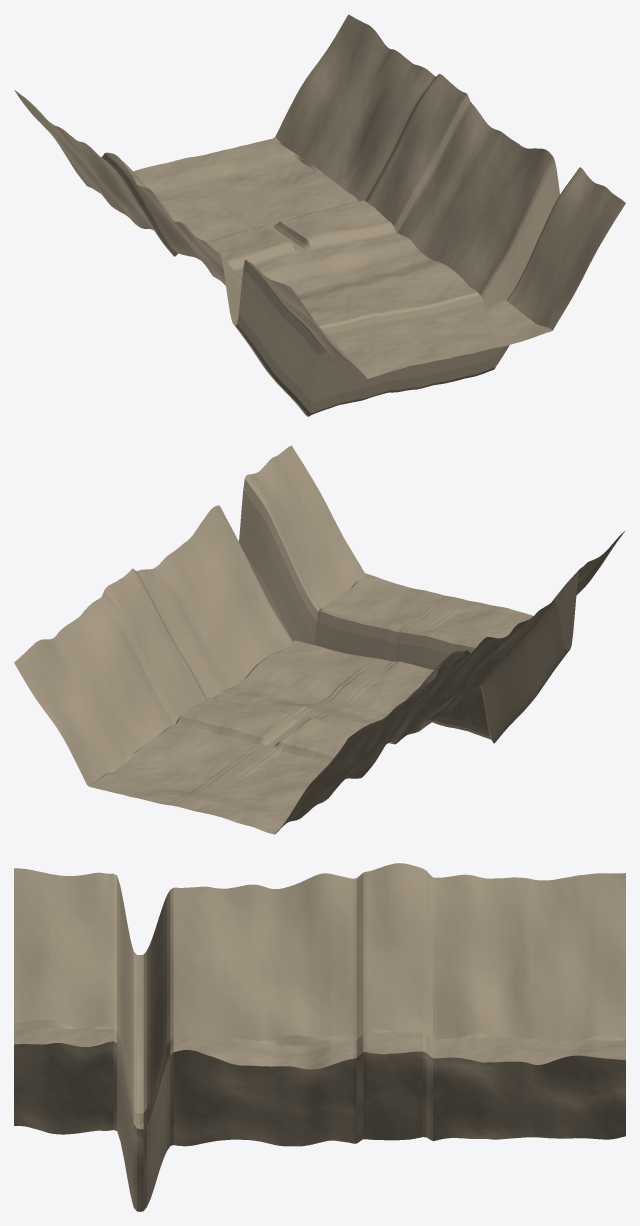
The model's file is SM_CanyonTerrain.fbx.
3 renders of one model, top to bottom at view 1: azimuth 30°, elevation 25°; view 2: azimuth 150°, elevation 25°; view 3: azimuth 270°, elevation 25°, orthographic. The views are drawn at different scales.
Visible parts, largest first — view 1: SM_CanyonTerrain; view 2: SM_CanyonTerrain; view 3: SM_CanyonTerrain.
Boxes of the visible parts, x1=… form: SM_CanyonTerrain: x1=14, y1=14, x2=625, y2=416; SM_CanyonTerrain: x1=14, y1=445, x2=624, y2=834; SM_CanyonTerrain: x1=14, y1=863, x2=625, y2=1211.
Bounding box in the file's own units: 160 × 88.94 × 230.
